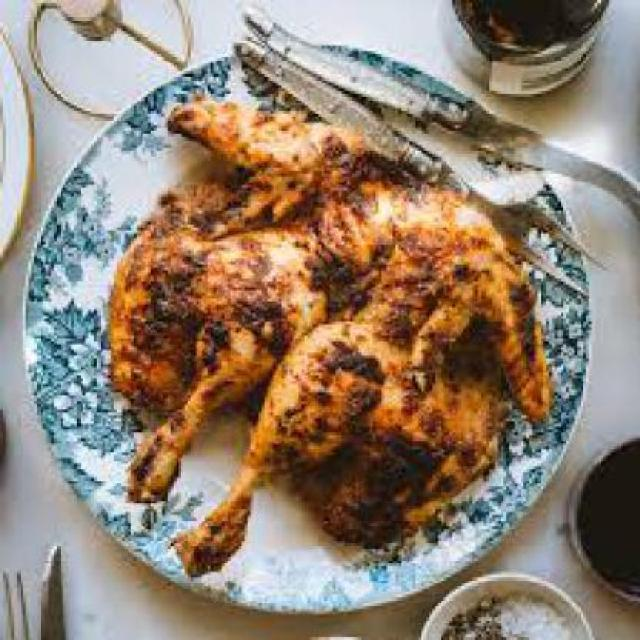Frango: (96, 76, 541, 578)
